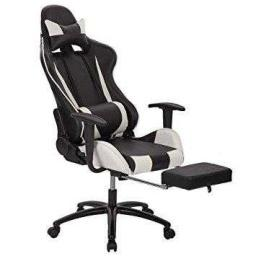Chair: (38, 6, 232, 252)
